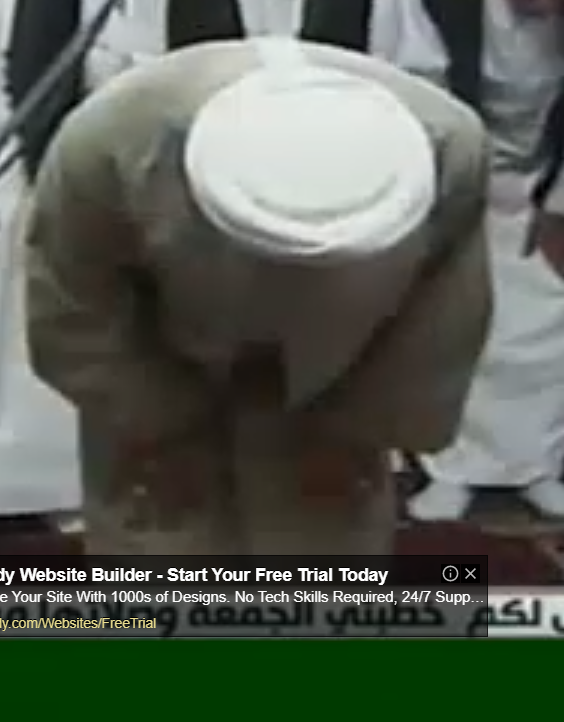ruku: (18, 5, 501, 671)
